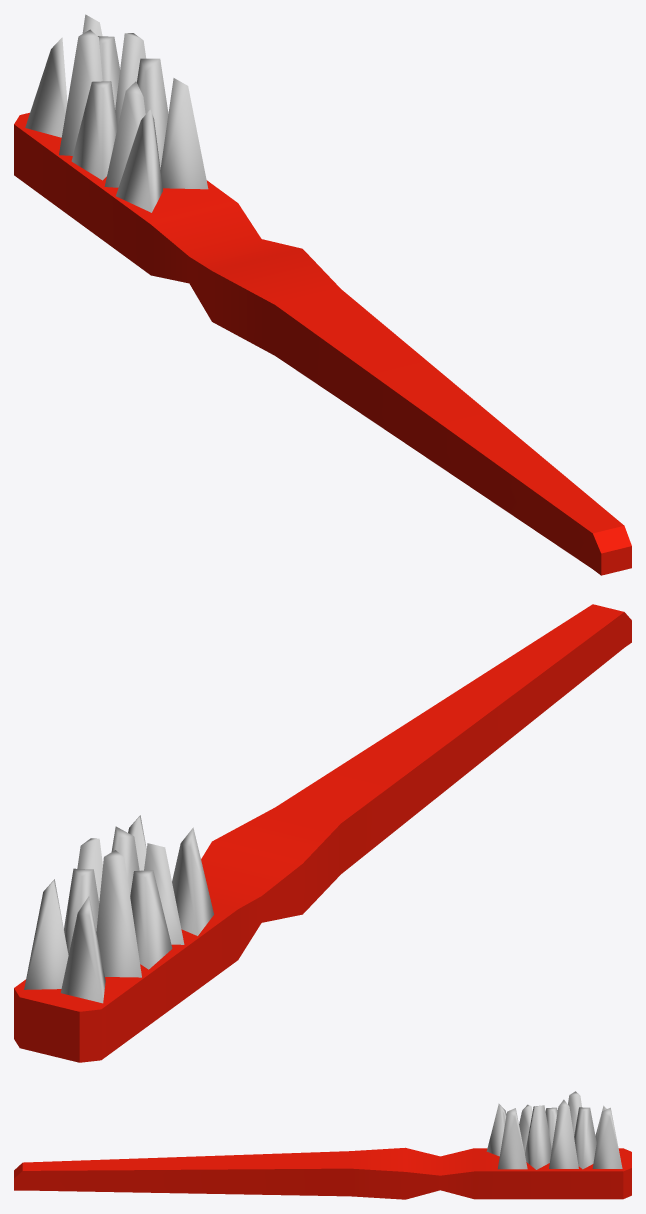
The model's file is Toothbrush.FBX.
The picture shows the model from 3 angles, top to bottom: view 1: azimuth 30°, elevation 25°; view 2: azimuth 150°, elevation 25°; view 3: azimuth 270°, elevation 25°; orthographic projection. The views are drawn at different scales.
Visible parts, largest first — view 1: Tooth_Brush_01; view 2: Tooth_Brush_01; view 3: Tooth_Brush_01.
Part boxes in pixels (<box>): Tooth_Brush_01: <box>14,14,631,575</box>; Tooth_Brush_01: <box>14,604,631,1062</box>; Tooth_Brush_01: <box>14,1091,631,1199</box>.
Size of the model in its own units: 6.59 by 11.67 by 71.32.
